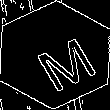M_NW: (18, 22, 92, 88)
